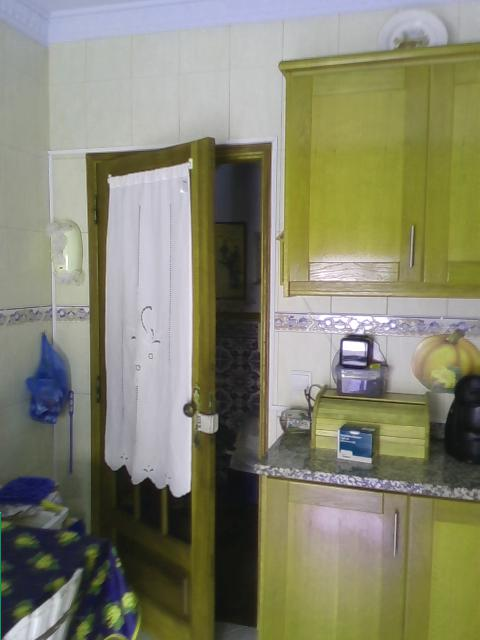semi_door: (84, 132, 273, 639)
